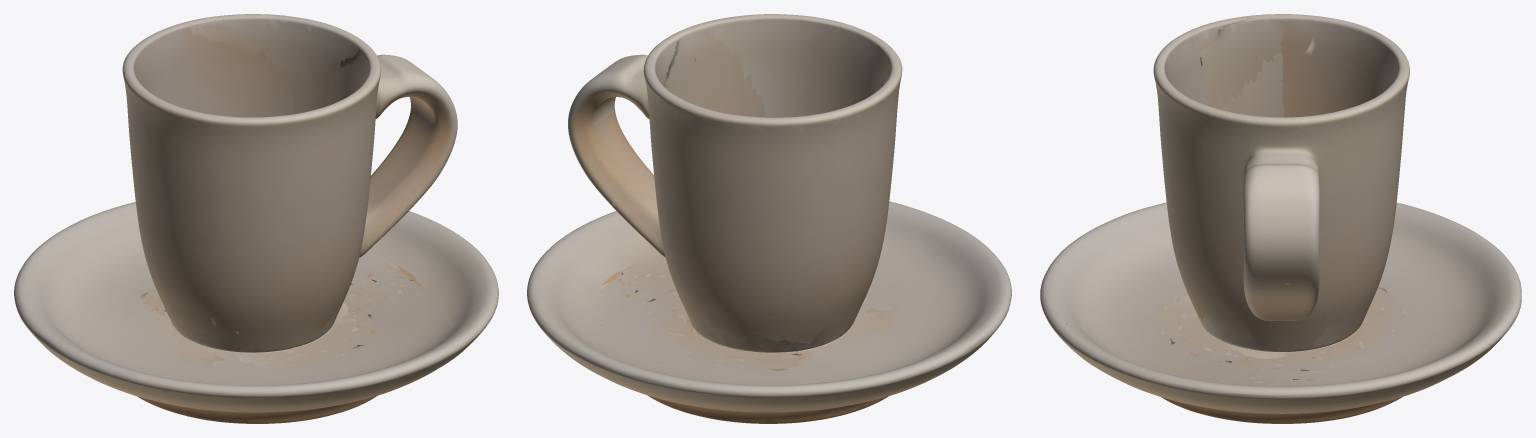
File: foodify-mug-s20.glb
The picture shows the model from 3 angles, left to right: view 1: azimuth 30°, elevation 25°; view 2: azimuth 150°, elevation 25°; view 3: azimuth 270°, elevation 25°; orthographic projection.
Parts seen in each view (by area): view 1: texture_pbr_v128; view 2: texture_pbr_v128; view 3: texture_pbr_v128.
Boxes of the visible parts, bbox=[...] form: texture_pbr_v128: bbox=[14, 14, 498, 423]; texture_pbr_v128: bbox=[527, 14, 1011, 423]; texture_pbr_v128: bbox=[1040, 14, 1521, 423].
Bounding box in the file's own units: 0.1683 × 0.1143 × 0.1683.
1 material, 1 textured.
